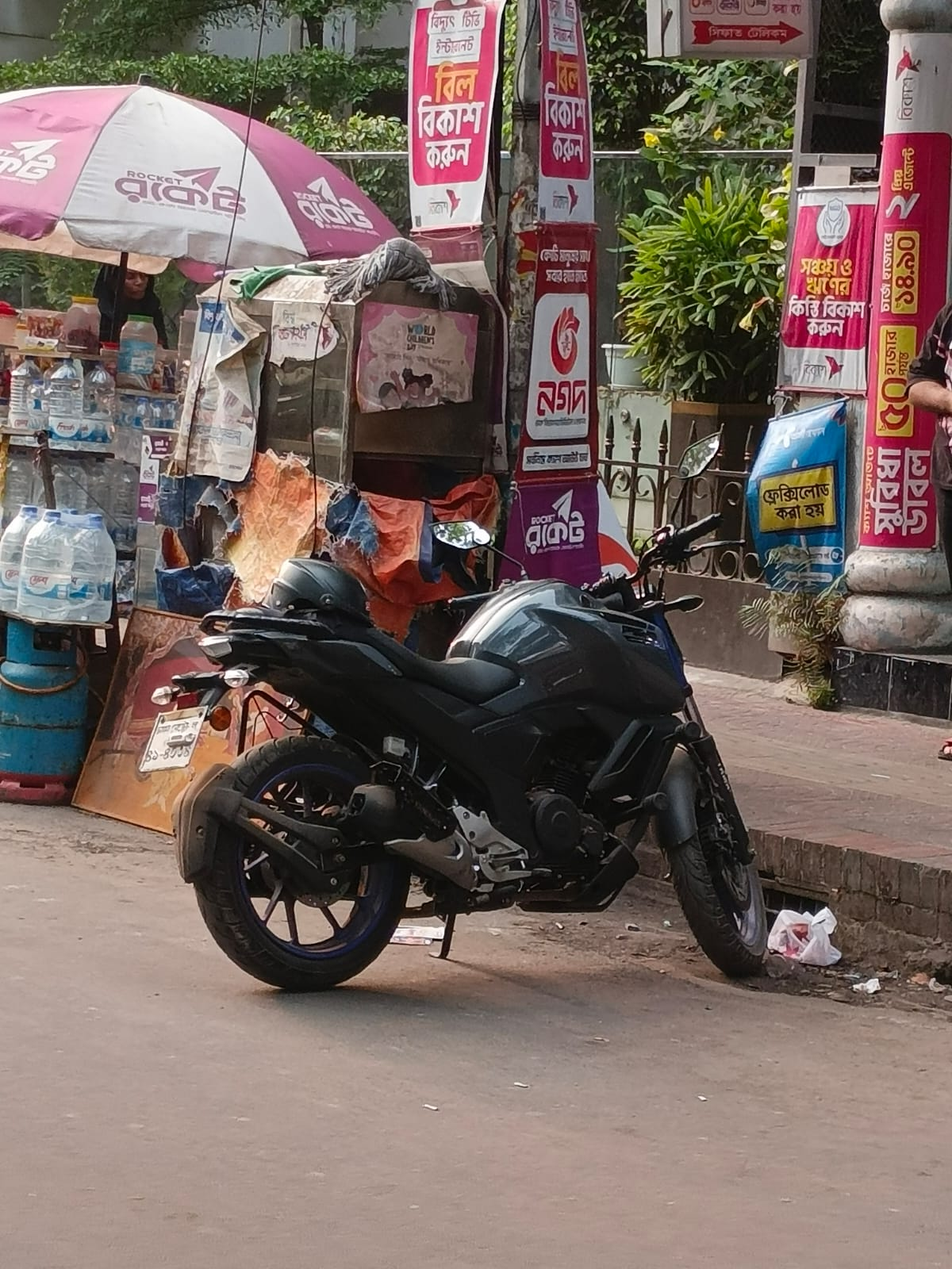Bikes: (138, 408, 929, 1046)
